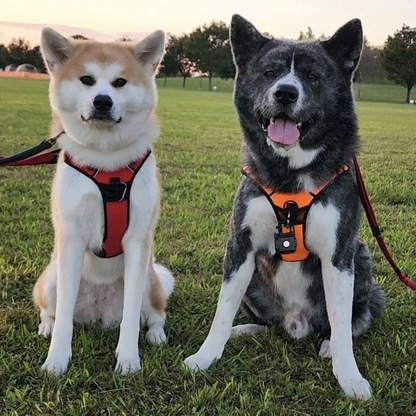akita: (179, 9, 390, 416), (28, 23, 178, 381)
